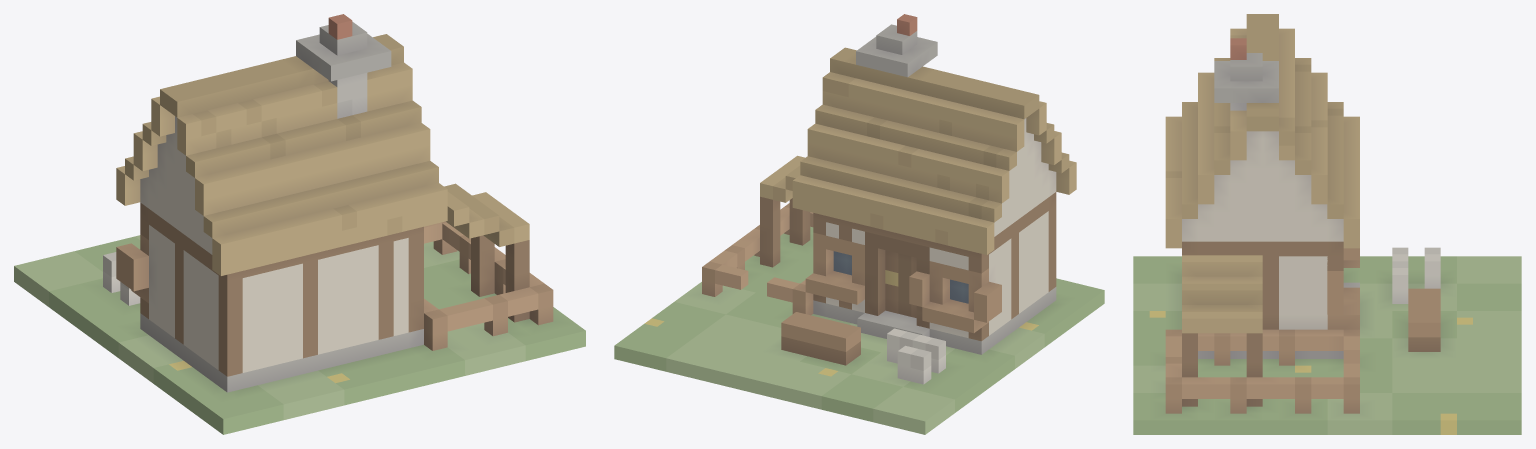
The model's file is sheep_farm.glb.
The picture shows the model from 3 angles, left to right: view 1: azimuth 30°, elevation 25°; view 2: azimuth 150°, elevation 25°; view 3: azimuth 270°, elevation 25°; orthographic projection. The views are drawn at different scales.
Visible parts, largest first — view 1: sheep_farm; view 2: sheep_farm; view 3: sheep_farm.
Boxes of the visible parts, box(x1,y1,x2,y2) form: sheep_farm: box(14, 14, 585, 434); sheep_farm: box(614, 14, 1104, 434); sheep_farm: box(1133, 14, 1521, 434).
Size of the model in its own units: 3 by 2.62 by 3.
